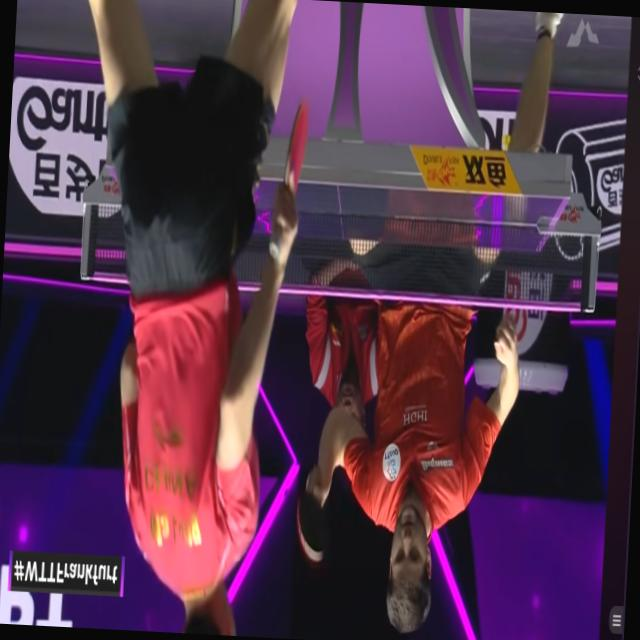TT Net: (79, 193, 597, 309)
TT Racket: (272, 85, 328, 204), (290, 483, 337, 566)
TT Table: (105, 165, 567, 252)
